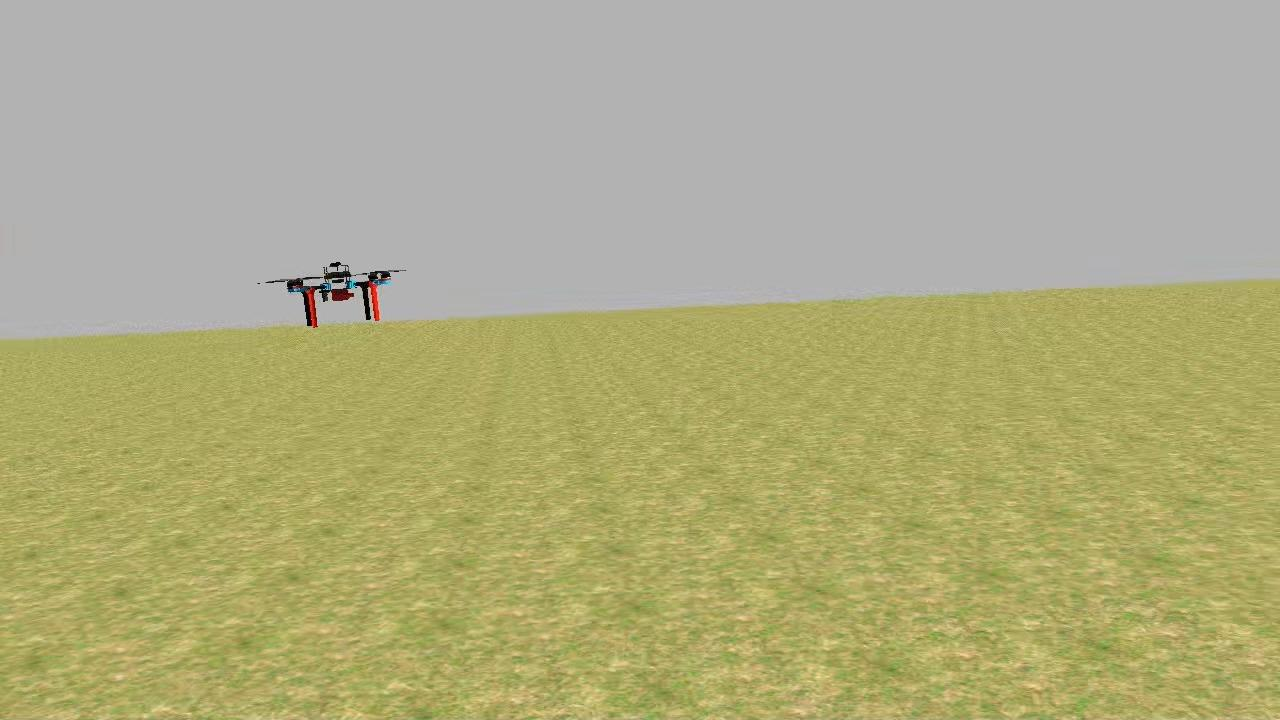UAV: (276, 254, 400, 336)
